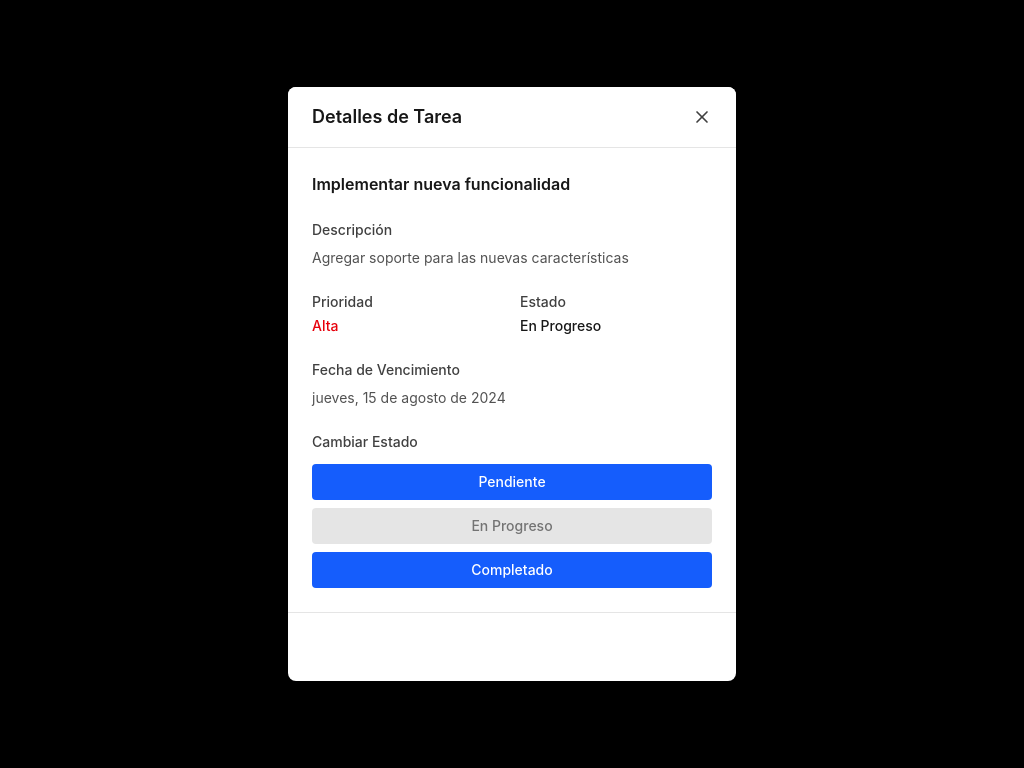
Scenario: TaskDetailModal › should show success message after status update
Click the button "Pendiente" at (512,482), box [312,464,712,500]
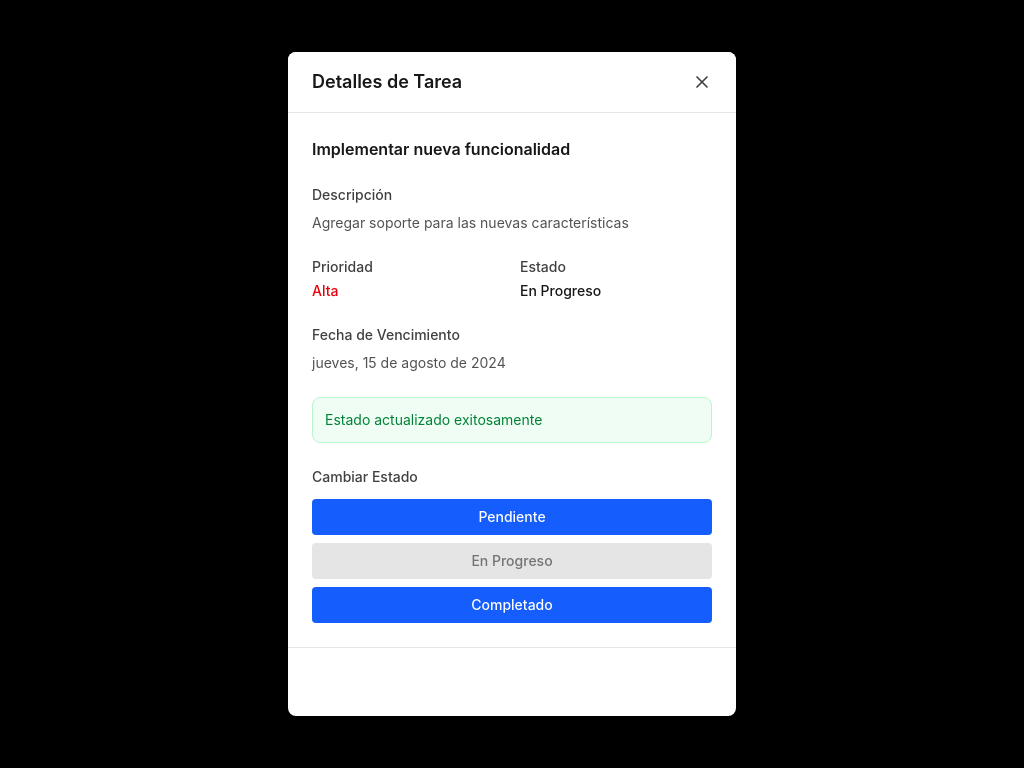
Check: the text "Estado actualizado exitosamente" is shown, box [312,397,712,443]
